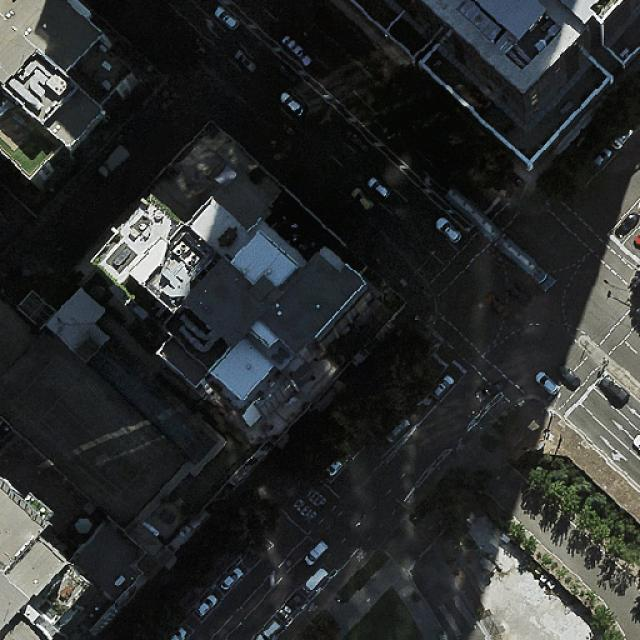Bike-Symbols: (355, 549, 368, 561), (307, 602, 318, 613), (406, 494, 418, 504), (455, 442, 466, 452)
